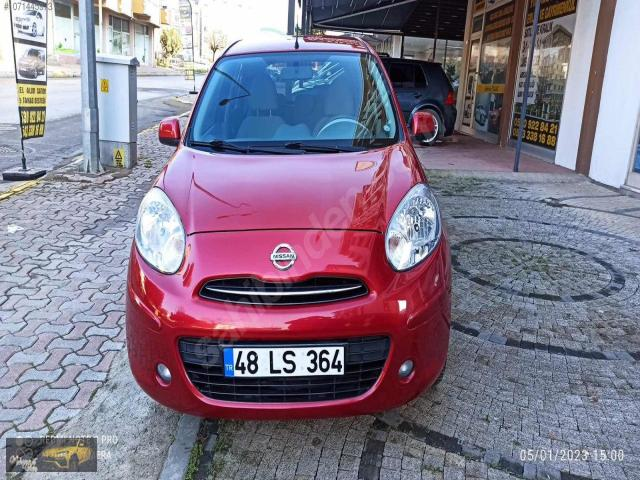plaka: (224, 343, 346, 377)
